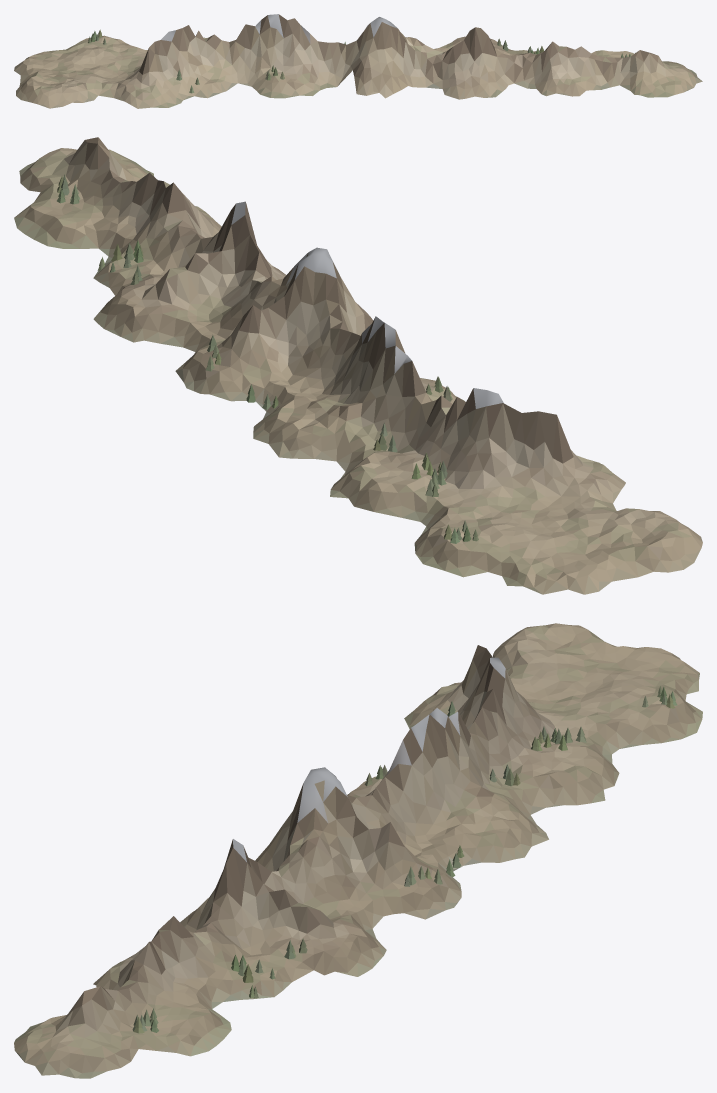
The model's file is range_qilian.glb.
3 renders of one model, top to bottom at view 1: azimuth 30°, elevation 25°; view 2: azimuth 150°, elevation 25°; view 3: azimuth 270°, elevation 25°, orthographic. The views are drawn at different scales.
Parts seen in each view (by area): view 1: range_qilian, trees_qilian; view 2: range_qilian, trees_qilian; view 3: range_qilian, trees_qilian.
Part boxes in pixels (x1=…): range_qilian: x1=14, y1=14, x2=702, y2=108; trees_qilian: x1=88, y1=29, x2=635, y2=93; range_qilian: x1=14, y1=137, x2=702, y2=594; trees_qilian: x1=57, y1=174, x2=478, y2=543; range_qilian: x1=14, y1=623, x2=702, y2=1078; trees_qilian: x1=132, y1=686, x2=677, y2=1033.
Size of the model in its own units: 358 by 40.89 by 235.
